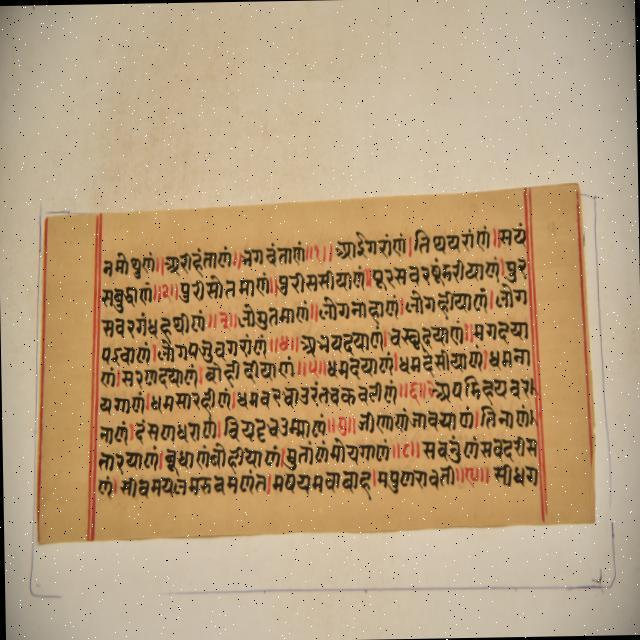text_paragraph: (37, 183, 593, 543)
